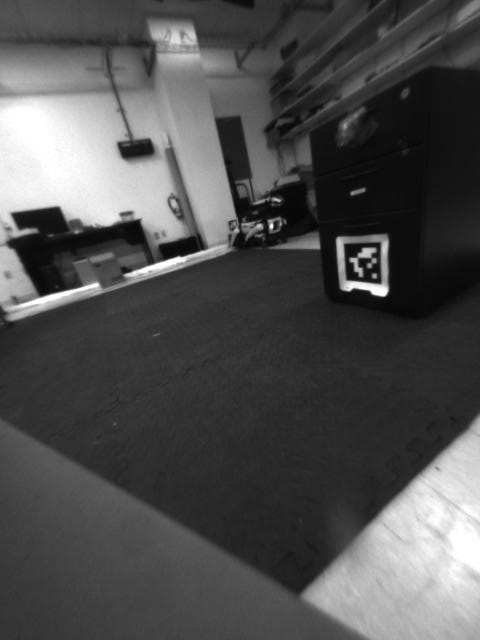drawer: (319, 102, 383, 153)
